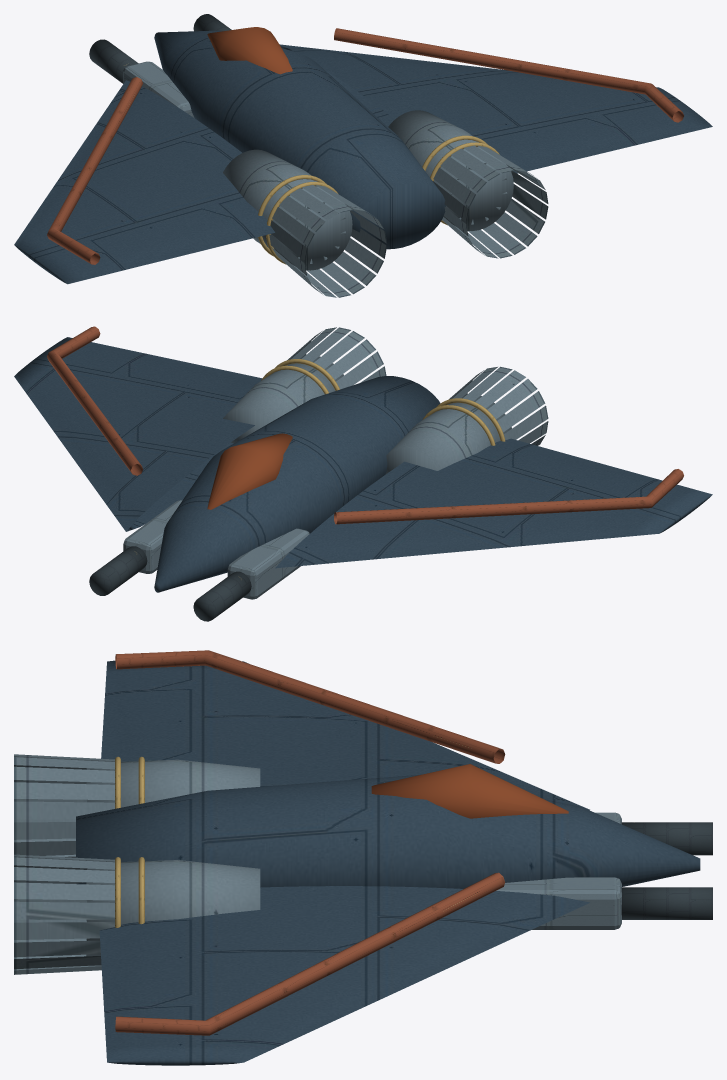
Rendered from drone-high.glb.
The picture shows the model from 3 angles, top to bottom: view 1: azimuth 30°, elevation 25°; view 2: azimuth 150°, elevation 25°; view 3: azimuth 270°, elevation 25°; orthographic projection. The views are drawn at different scales.
Visible parts, largest first — view 1: core-navy-surfaces, core-titanium-surfaces, core-hostile-surfaces, core-enemyglass-surfaces, core-brass-surfaces, core-graphite-surfaces; view 2: core-navy-surfaces, core-titanium-surfaces, core-hostile-surfaces, core-enemyglass-surfaces, core-graphite-surfaces, core-brass-surfaces; view 3: core-navy-surfaces, core-titanium-surfaces, core-hostile-surfaces, core-enemyglass-surfaces, core-graphite-surfaces, core-brass-surfaces.
Boxes of the visible parts, x1,y1,x2,y2 form: core-navy-surfaces: (14,30,712,284); core-titanium-surfaces: (123,61,548,297); core-hostile-surfaces: (47,28,683,264); core-enemyglass-surfaces: (207,27,292,74); core-brass-surfaces: (258,135,499,264); core-graphite-surfaces: (89,14,231,83); core-navy-surfaces: (14,337,712,592); core-titanium-surfaces: (123,327,548,599); core-hostile-surfaces: (47,326,683,524); core-enemyglass-surfaces: (207,433,292,509); core-graphite-surfaces: (89,546,251,621); core-brass-surfaces: (261,359,505,445); core-navy-surfaces: (76,660,700,1065); core-titanium-surfaces: (14,754,621,974); core-hostile-surfaces: (115,650,505,1035); core-enemyglass-surfaces: (371,764,568,818); core-graphite-surfaces: (621,822,712,919); core-brass-surfaces: (115,756,144,927).
Bounding box in the file's own units: 5.2 × 0.9073 × 3.83.
Materials: 6 (5 with a texture image).
